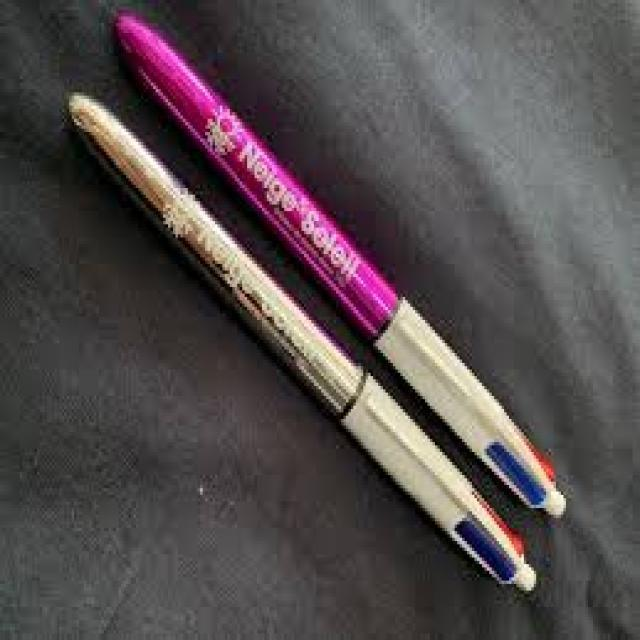Pen - Non Recyclable: (109, 3, 566, 518), (68, 91, 532, 588)
